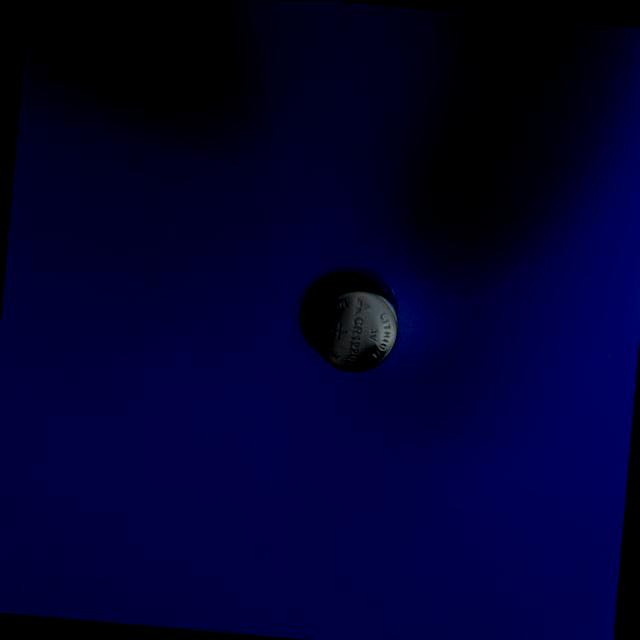COIN: (304, 276, 404, 380)
